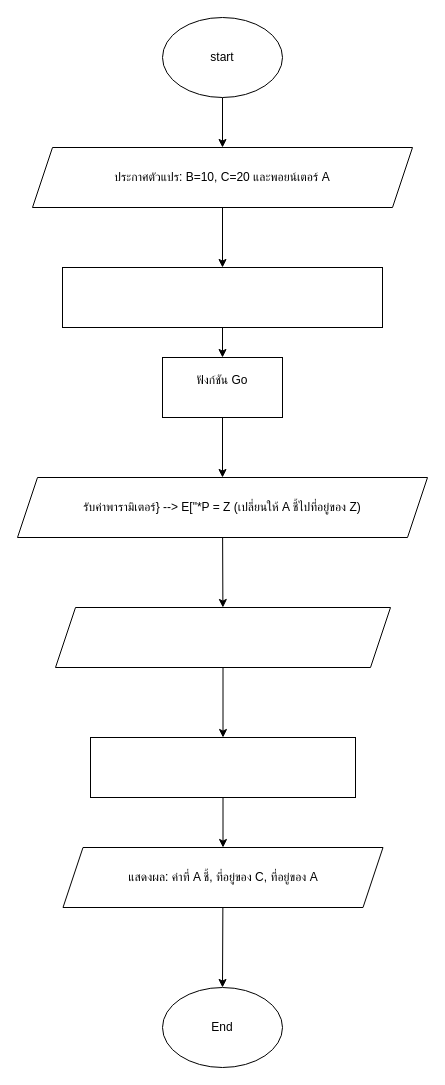
Image size: 445x1085. Some labels were removed from this diagram. Each missing label, with the centre of its shape:
"เรียกฟังก์ชัน Go ครั้งที่ 1: ส่งที่อยู่ของ A และ B" goes at point 222,297.
"เรียกฟังก์ชัน Go ครั้งที่ 2: ส่งที่อยู่ของ A และ C" goes at point 223,767.
"แสดงผล: ค่าที่ A ชี้, ที่อยู่ของ B, ที่อยู่ของ A" goes at point 222,637.
